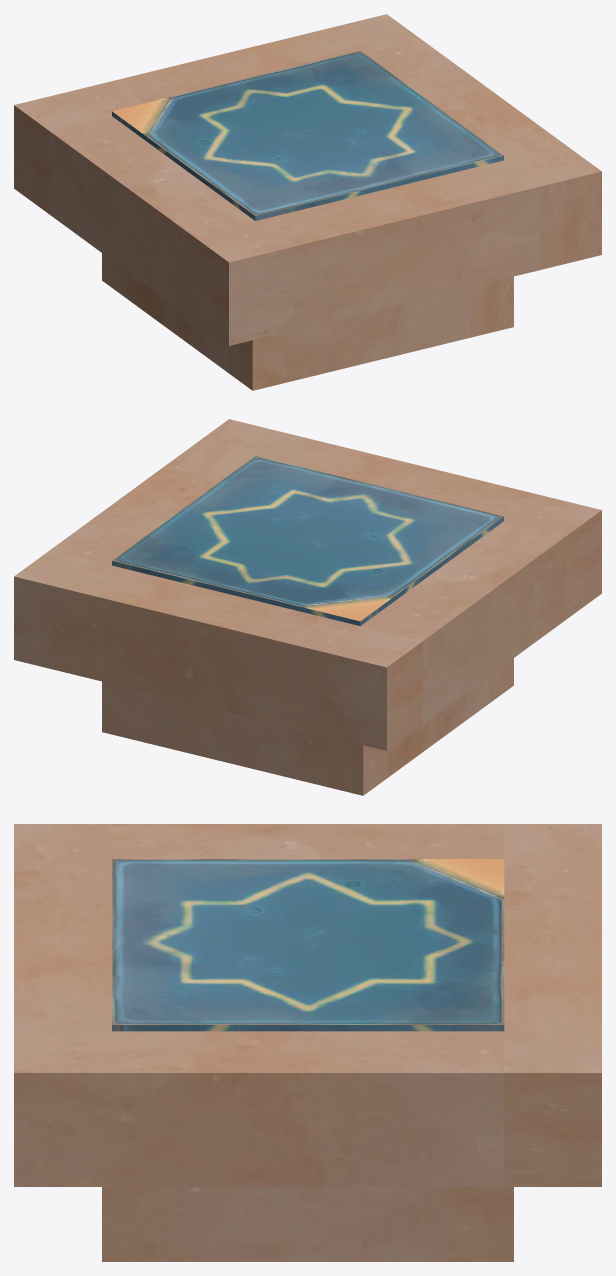
3 renders of one model, top to bottom at view 1: azimuth 30°, elevation 25°; view 2: azimuth 150°, elevation 25°; view 3: azimuth 270°, elevation 25°, orthographic. The views are drawn at different scales.
Parts seen in each view (by area): view 1: SM_BB_T4_Floor_Small_01_LOD0; view 2: SM_BB_T4_Floor_Small_01_LOD0; view 3: SM_BB_T4_Floor_Small_01_LOD0.
Boxes of the visible parts, box(x1,y1,x2,y2) form: SM_BB_T4_Floor_Small_01_LOD0: box(14, 14, 601, 390); SM_BB_T4_Floor_Small_01_LOD0: box(14, 419, 601, 795); SM_BB_T4_Floor_Small_01_LOD0: box(14, 824, 601, 1261).
Size of the model in its own units: 1.13 by 0.4913 by 1.12.
2 materials, 2 textured.
